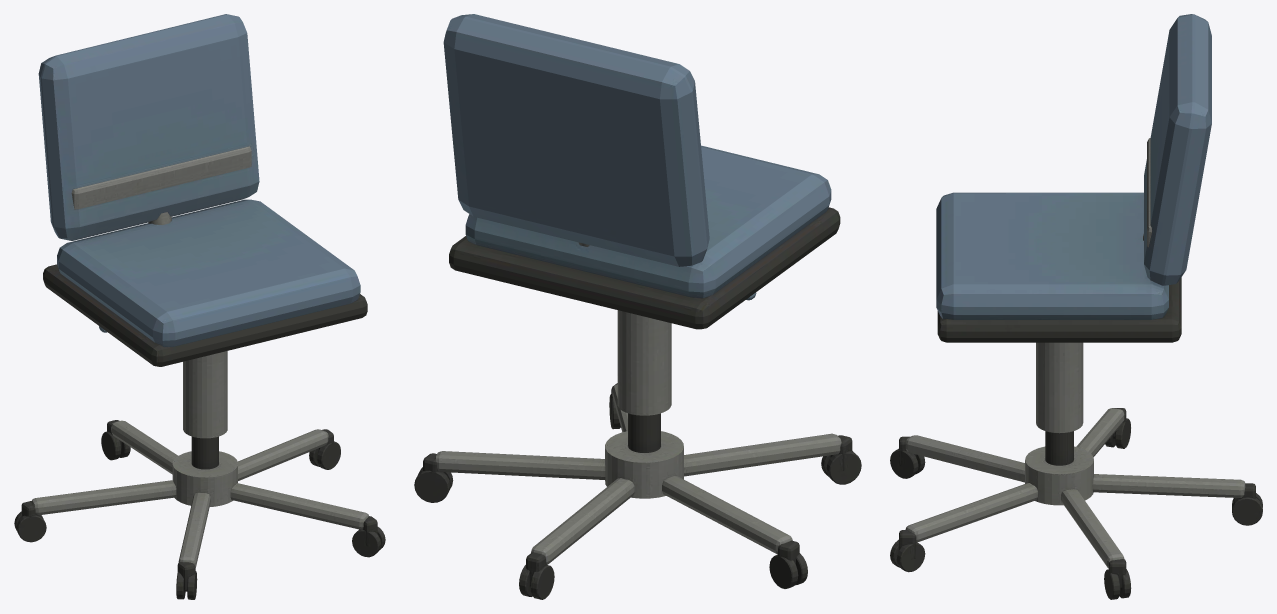
File: props-chair-task-blue.glb
3 views of the same model, side by side, from view 1: azimuth 30°, elevation 25°; view 2: azimuth 150°, elevation 25°; view 3: azimuth 270°, elevation 25° (orthographic). The views are drawn at different scales.
Visible parts, largest first — view 1: case-baked; view 2: case-baked; view 3: case-baked.
Boxes of the visible parts, x1,y1,x2,y2 form: case-baked: (14,14,385,599); case-baked: (414,14,861,599); case-baked: (890,14,1262,599).
Bounding box in the file's own units: 0.6826 × 0.8907 × 0.6492.
Materials: 1 (1 with a texture image).
